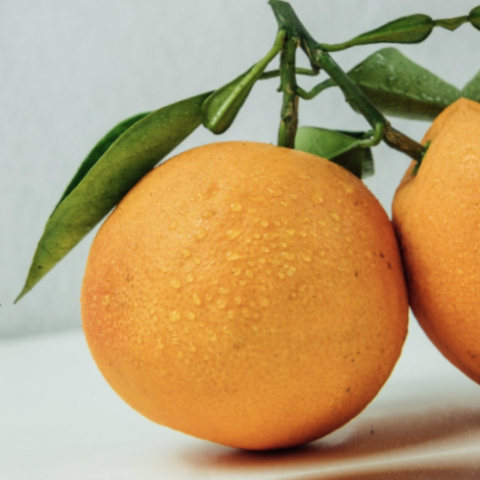orange: (23, 80, 464, 480)
